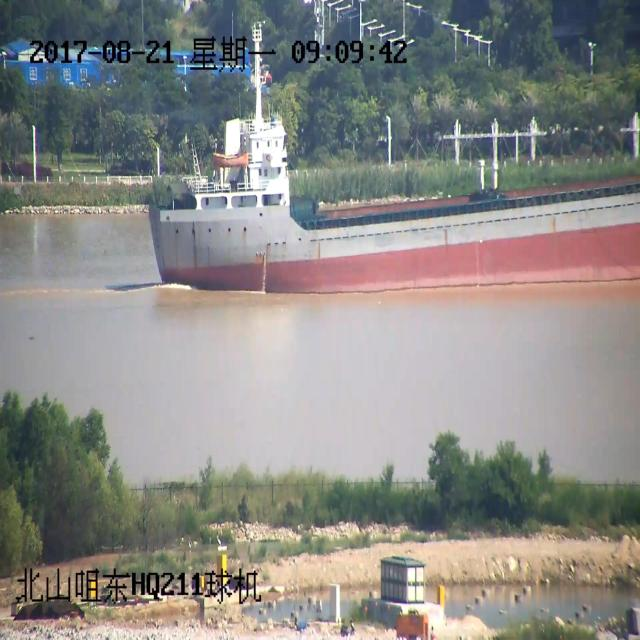cargoship: (162, 76, 634, 313)
